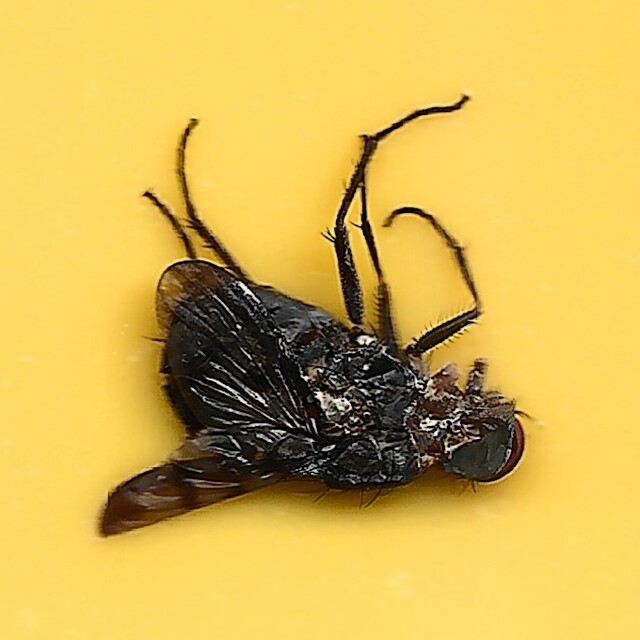Brachycera: (94, 93, 546, 547)
